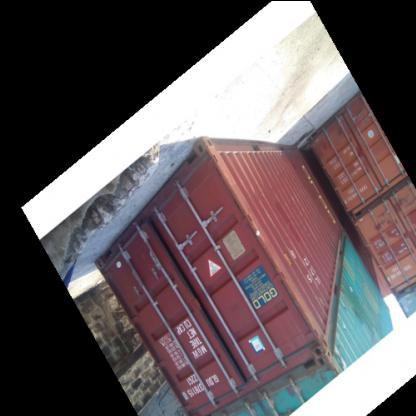Damage: (278, 265, 308, 331)
